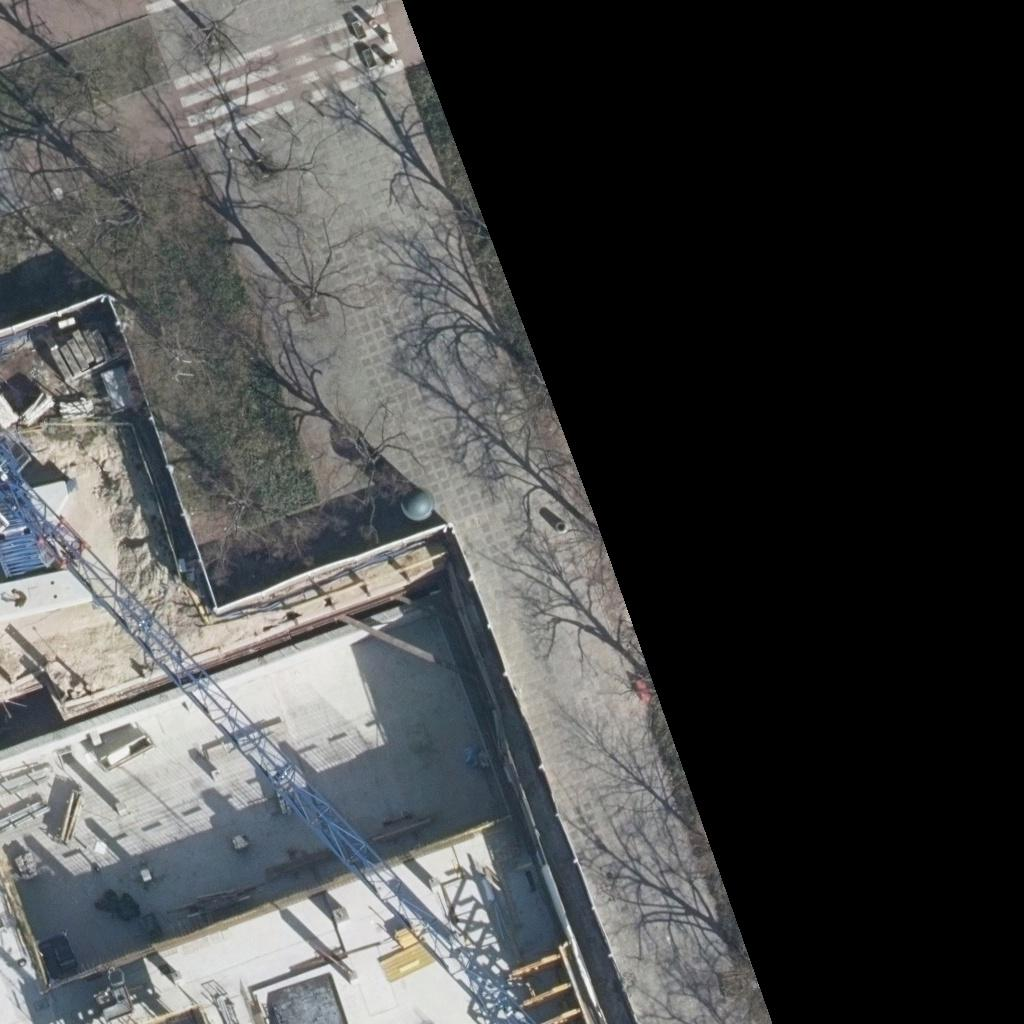zuraw_wiezowy: (0, 432, 533, 1024)
